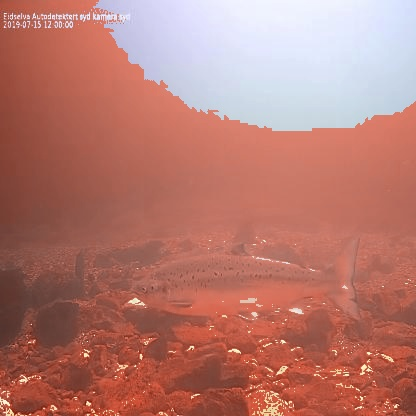salmon: (128, 231, 363, 327)
